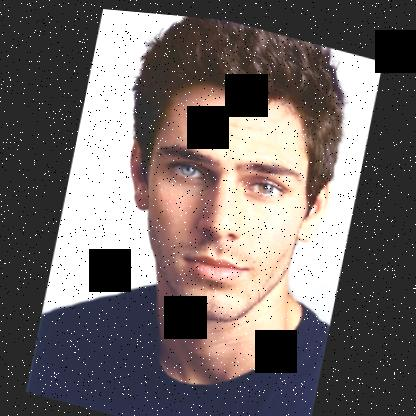Male: (102, 54, 348, 338)
